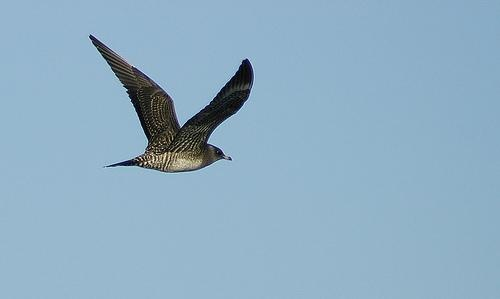bird: (87, 31, 255, 174)
